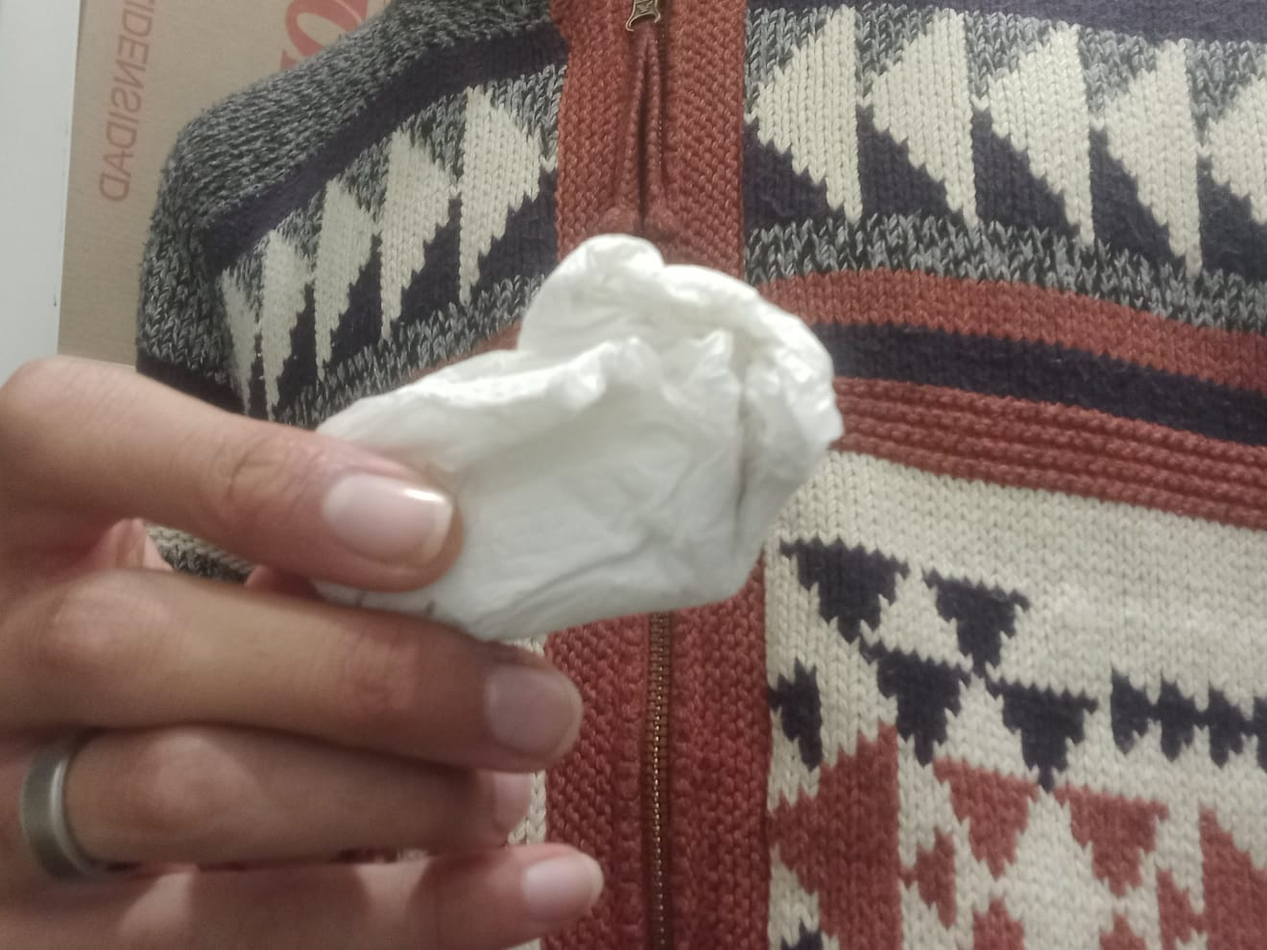Ordinario: (311, 235, 846, 648)
